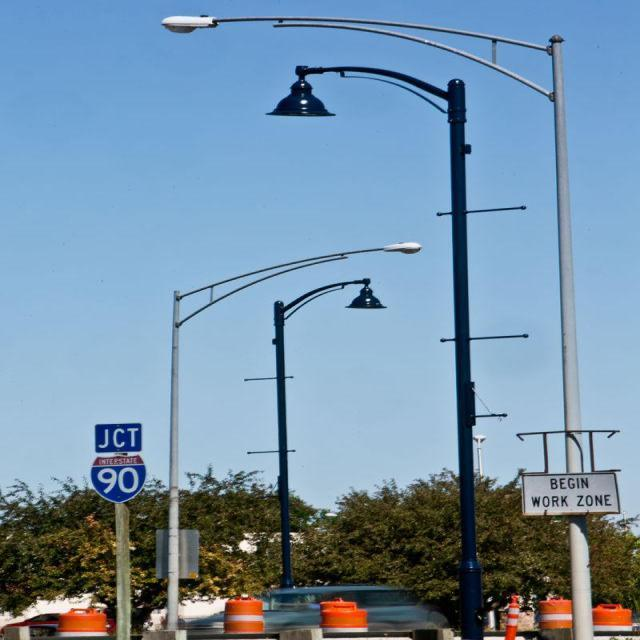off: (140, 0, 390, 142), (310, 213, 454, 344)
